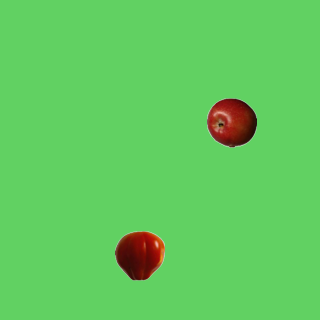Apple Braeburn: (206, 97, 256, 147)
Tomato 1: (114, 230, 164, 280)
